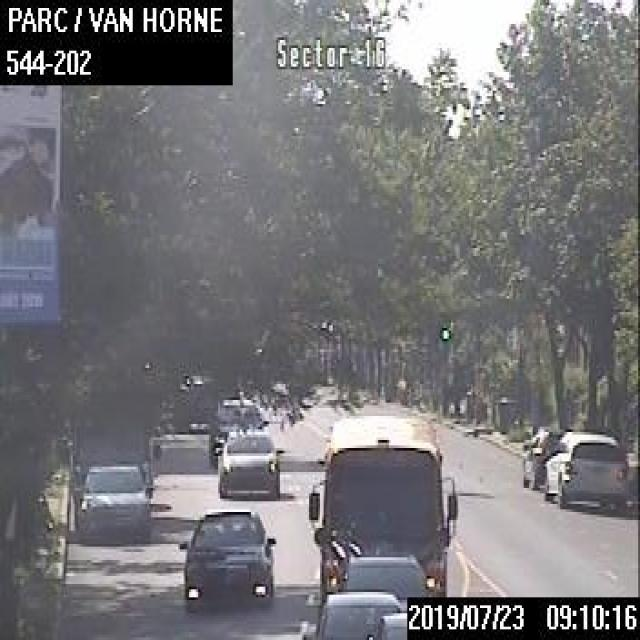bus: (306, 411, 456, 603)
vehicle: (178, 504, 275, 605), (542, 428, 628, 504), (71, 459, 154, 536), (343, 551, 435, 609), (215, 426, 285, 496), (207, 395, 269, 468), (314, 590, 399, 638), (520, 422, 565, 489), (370, 610, 407, 636)
